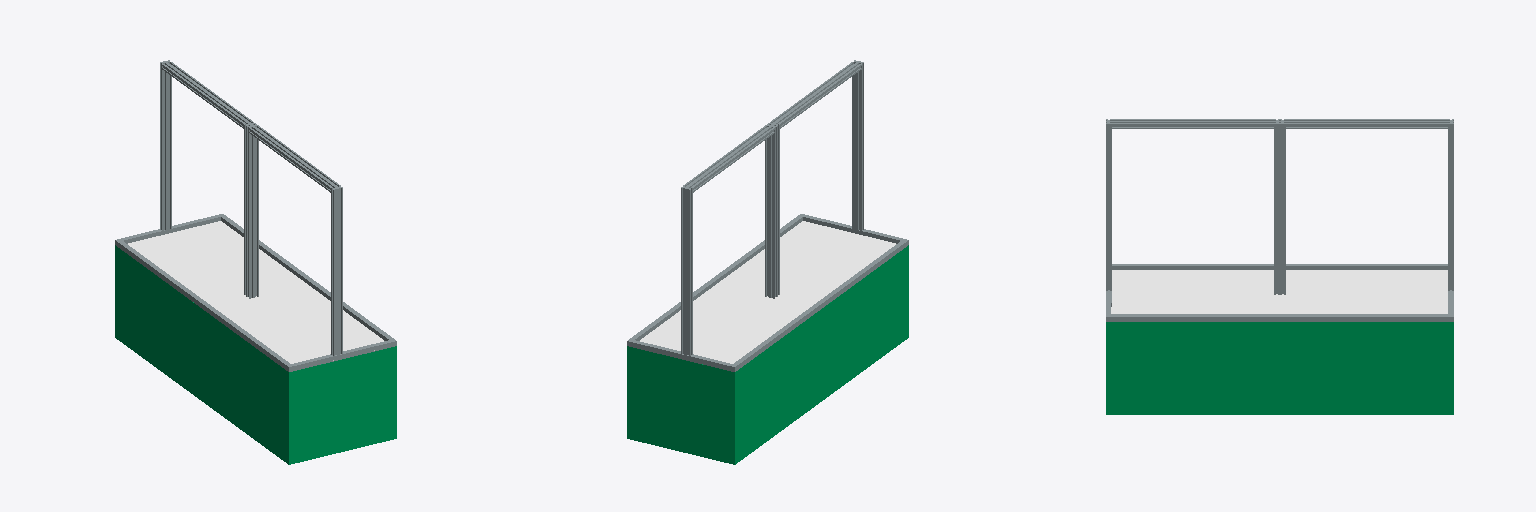
The model's file is ProjectionTable.obj.
3 renders of one model, left to right at view 1: azimuth 30°, elevation 25°; view 2: azimuth 150°, elevation 25°; view 3: azimuth 270°, elevation 25°, orthographic.
Parts seen in each view (by area): view 1: Table, Frame; view 2: Table, Frame; view 3: Table, Frame.
Boxes of the visible parts, <box> form: Table: <box>115,221,396,464</box>; Frame: <box>115,60,396,371</box>; Table: <box>627,221,908,464</box>; Frame: <box>627,60,908,371</box>; Table: <box>1106,270,1453,414</box>; Frame: <box>1106,119,1453,321</box>.
Size of the model in its own units: 1.11 by 2.6 by 3.11.